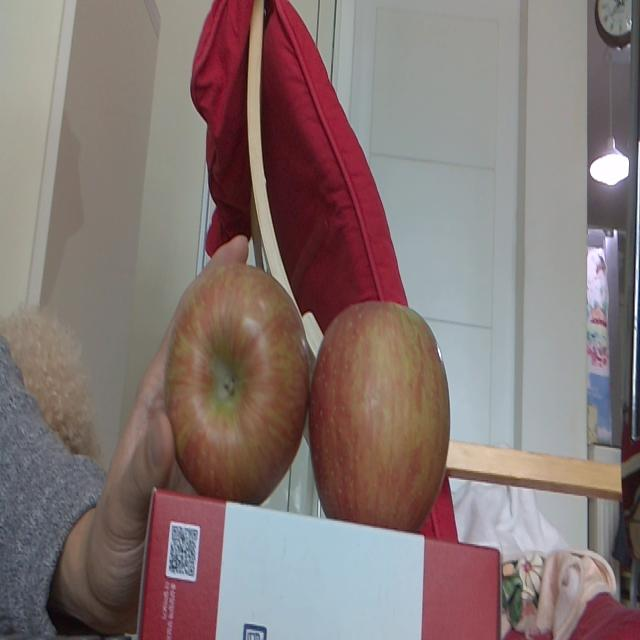apple: (164, 263, 310, 506), (308, 299, 450, 535)
